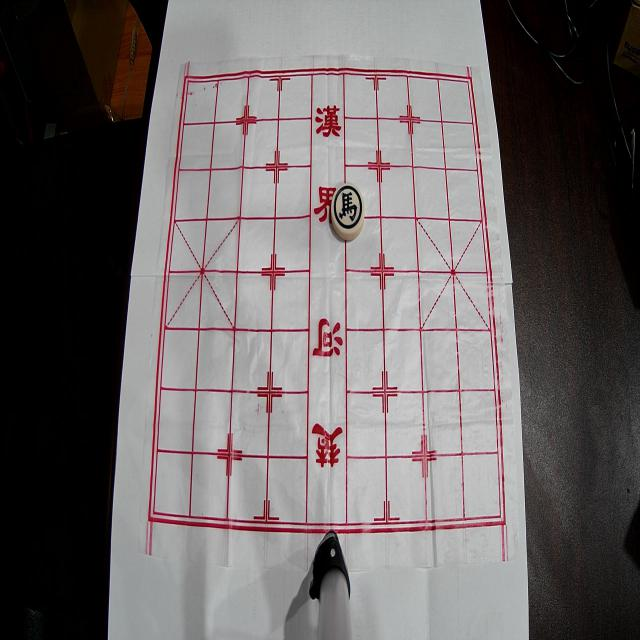black-horse: (331, 182, 365, 240)
